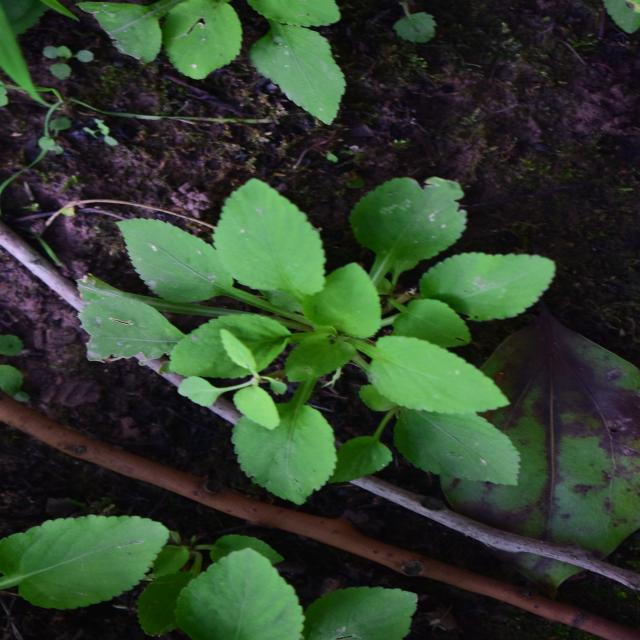Viola: (148, 69, 458, 518)
